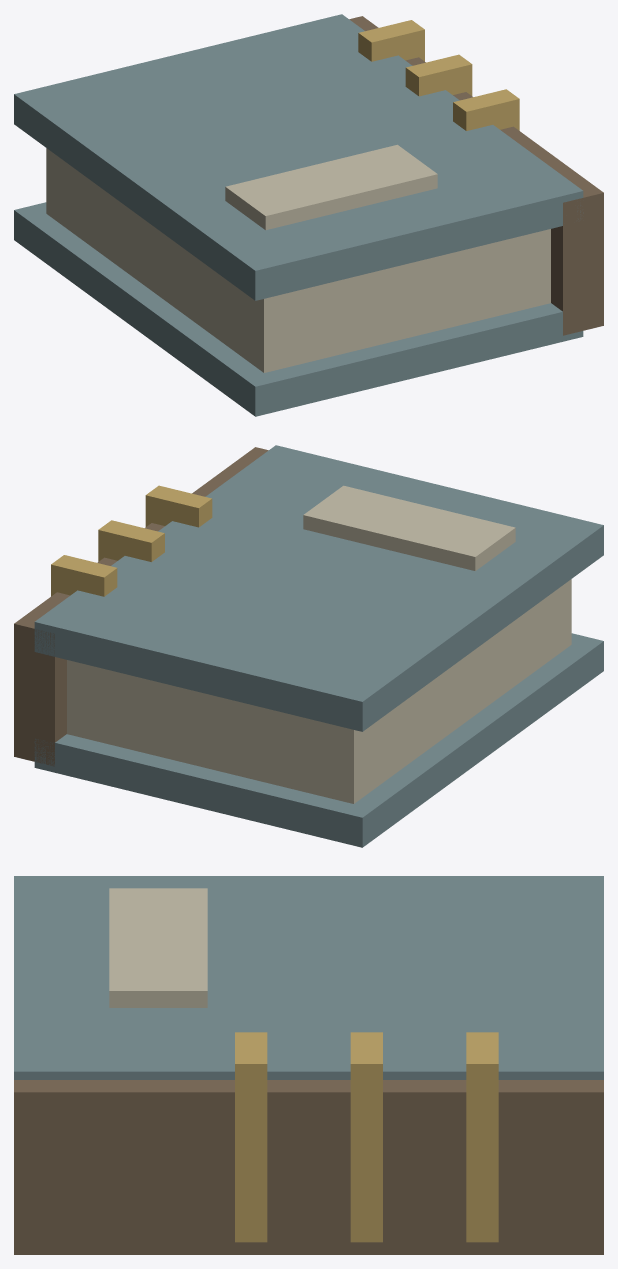
Rendered from spread-portable-codex07.fbx.
3 renders of one model, top to bottom at view 1: azimuth 30°, elevation 25°; view 2: azimuth 150°, elevation 25°; view 3: azimuth 270°, elevation 25°, orthographic. The views are drawn at different scales.
Visible parts, largest first — view 1: spread-portable-codex07__Geometry; view 2: spread-portable-codex07__Geometry; view 3: spread-portable-codex07__Geometry.
Part boxes in pixels (left/top/right/bottom): spread-portable-codex07__Geometry: left=14, top=14, right=603, bottom=416; spread-portable-codex07__Geometry: left=14, top=445, right=603, bottom=847; spread-portable-codex07__Geometry: left=14, top=876, right=603, bottom=1254.
Size of the model in its own units: 0.4325 by 0.1925 by 0.51.
